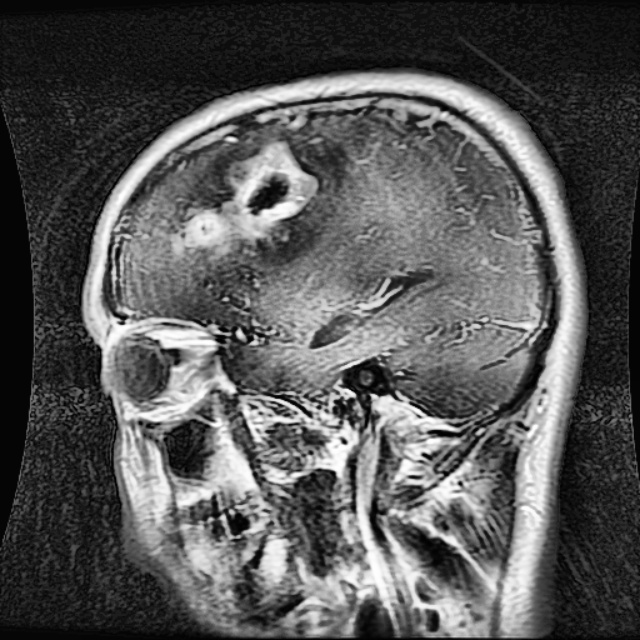Meningioma: (174, 139, 325, 245)
